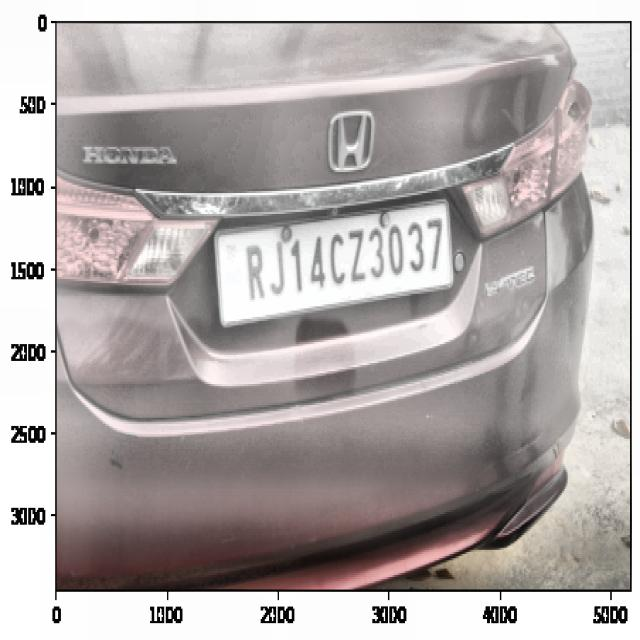license_plate: (240, 212, 450, 305)
